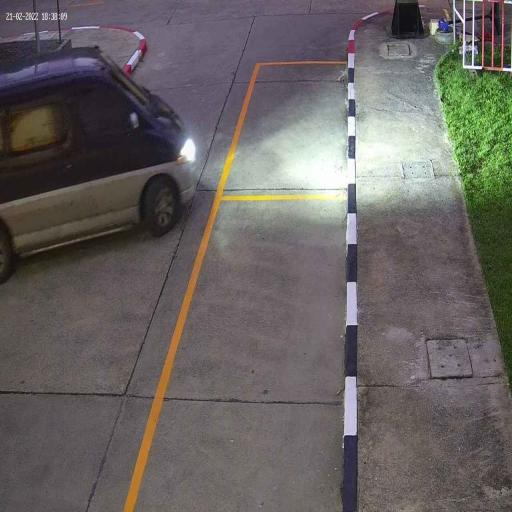car: (0, 43, 200, 284)
